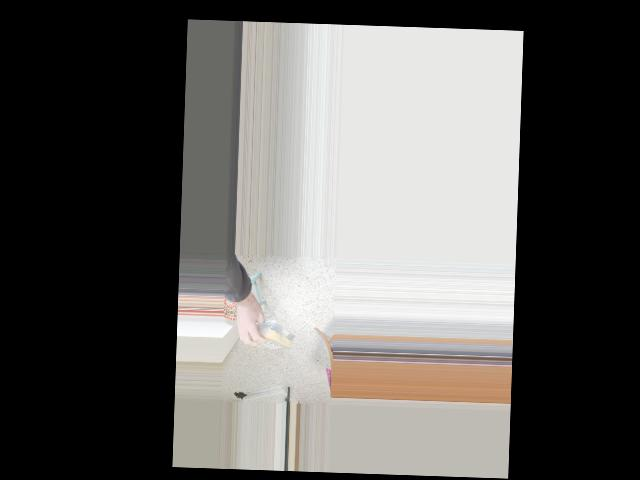cheese: (248, 325, 295, 350)
